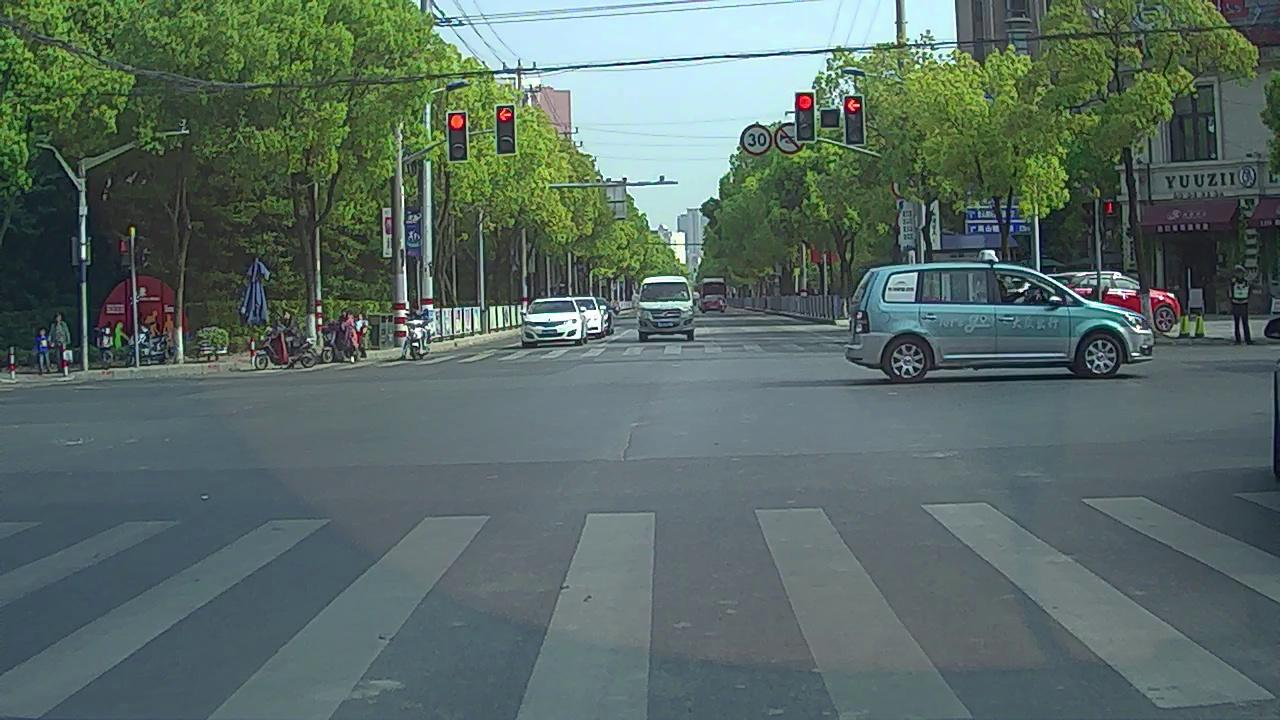traffic_light: (844, 98, 866, 146), (498, 105, 517, 157), (449, 114, 468, 161), (797, 94, 814, 144)
